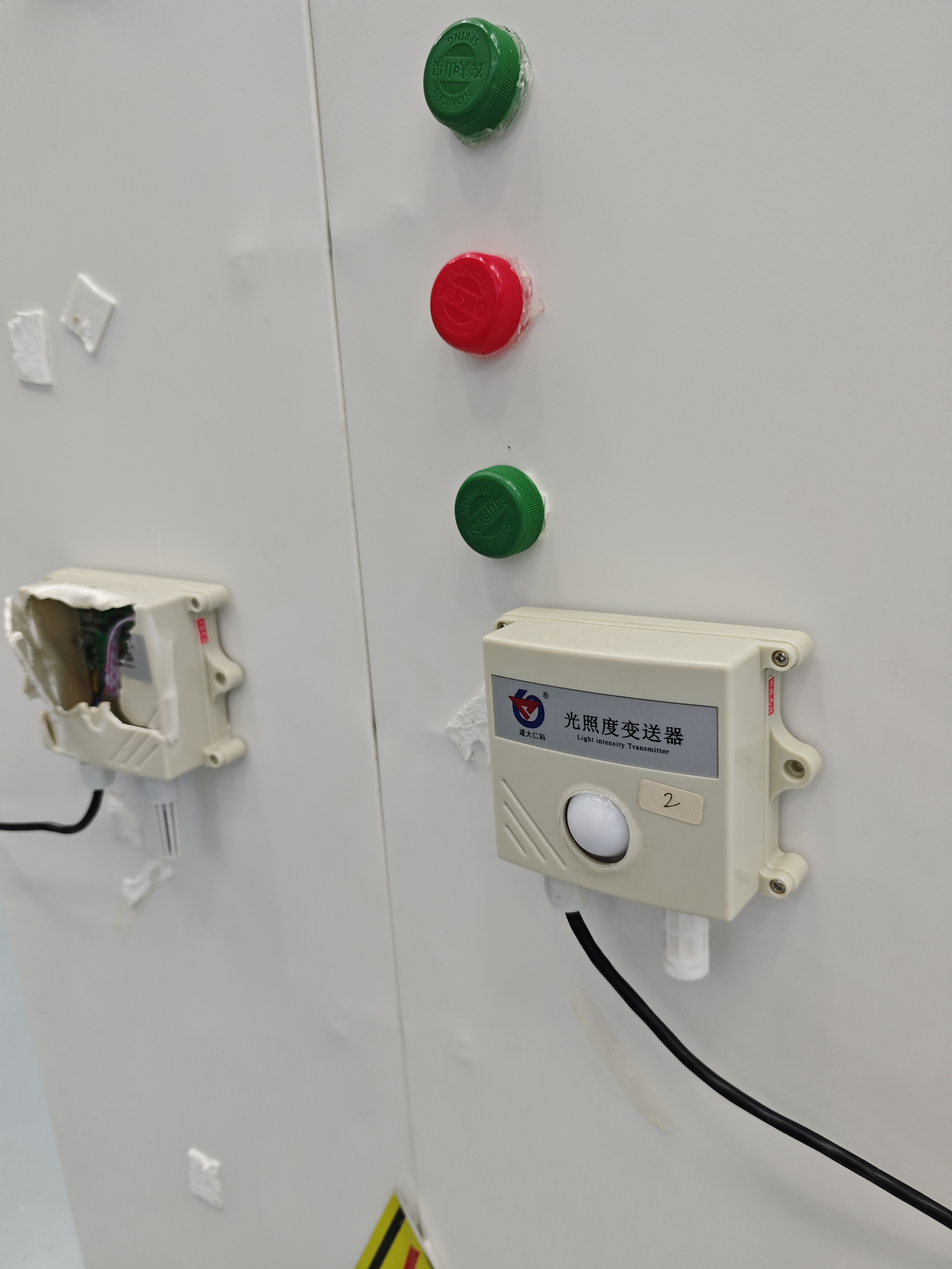red_warning: (407, 218, 614, 437)
sensor_damage: (7, 526, 247, 894)
